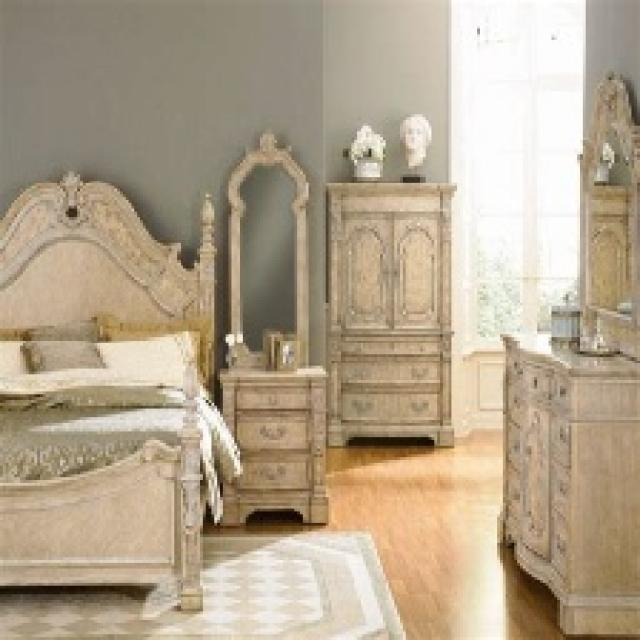Bed: (0, 169, 220, 614)
